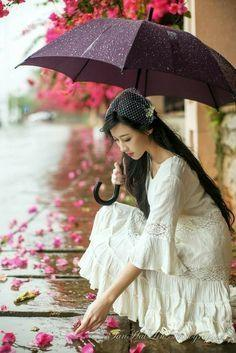Umbrella: (10, 7, 236, 122)
